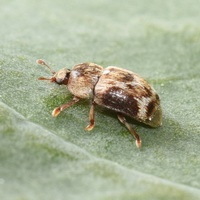insect: (36, 59, 161, 147)
